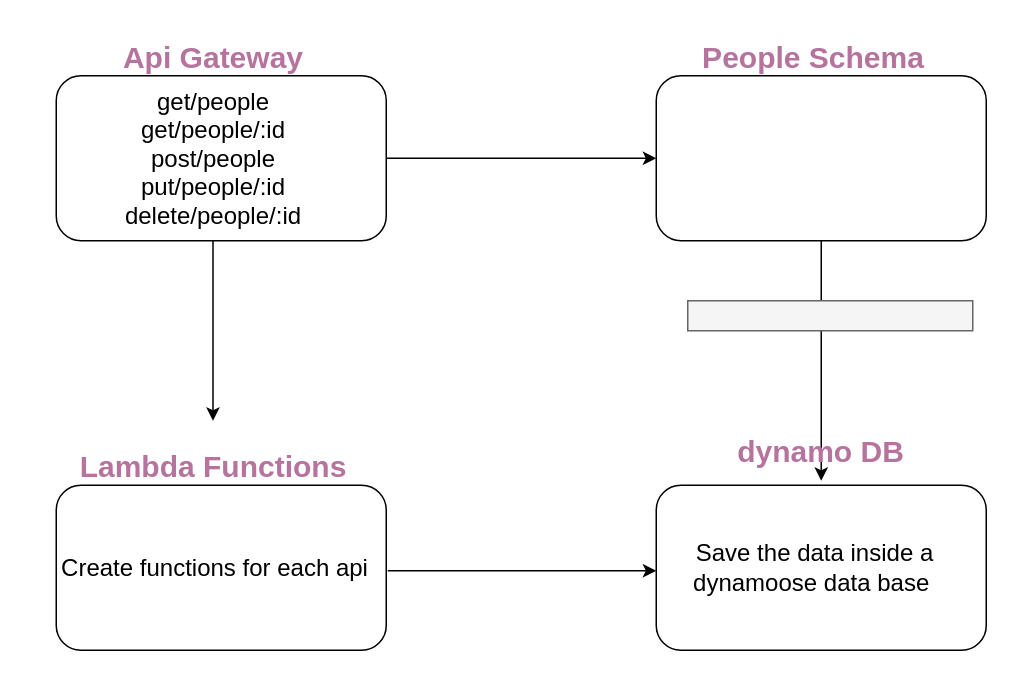
Some shapes in this 1034 by 677 pixel diagram are drawn without their labels. Here are the shapes that lost their labels. From the top down, the box of each, then its label:
(655, 74, 986, 241): id:String, name:String, hobby:String, major:String
(686, 299, 973, 331): Create/Read/Update/Delete
